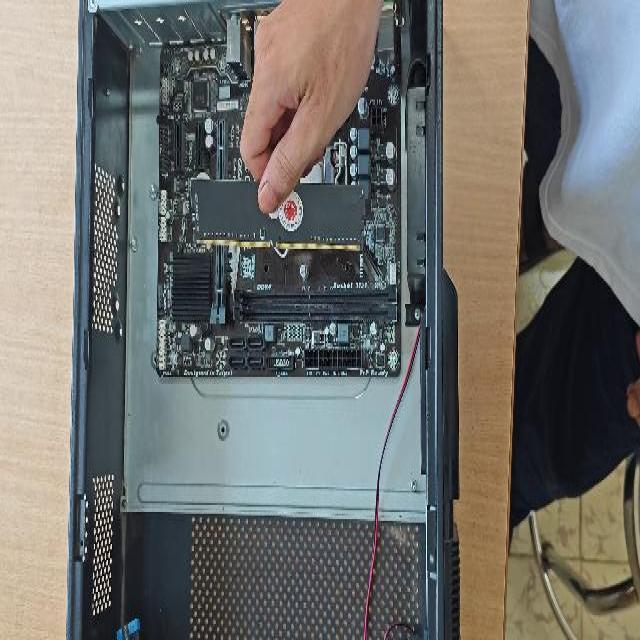Mainboard: (150, 37, 402, 379)
RAM: (190, 176, 368, 258)
